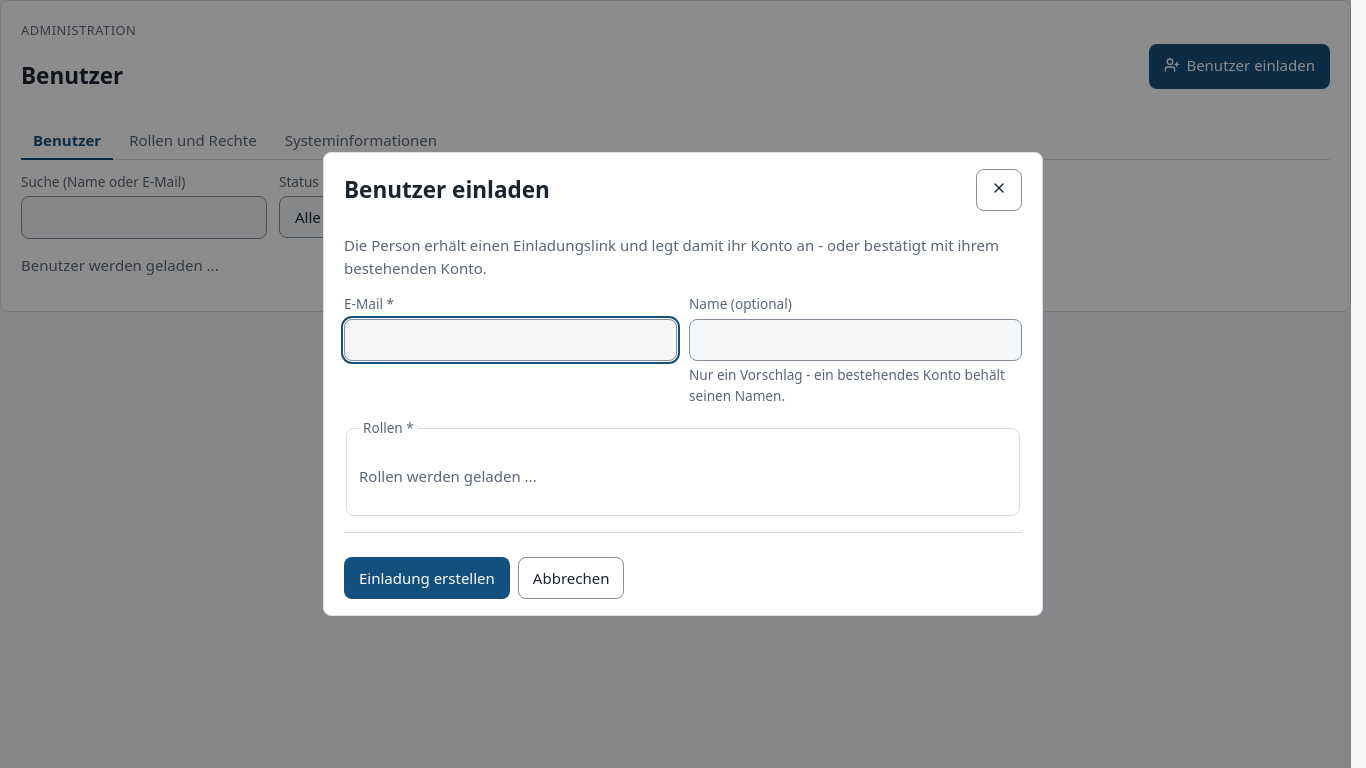
Test: Einladen und Einladungen verwalten › zeigt ohne Entwicklungsmodus keinen Link - auch wenn der Server einen schickte
Type "neu@test.example" into the field labelled "E-Mail *".
click(510, 340); type("neu@test.example")  # box [344,319,677,361]
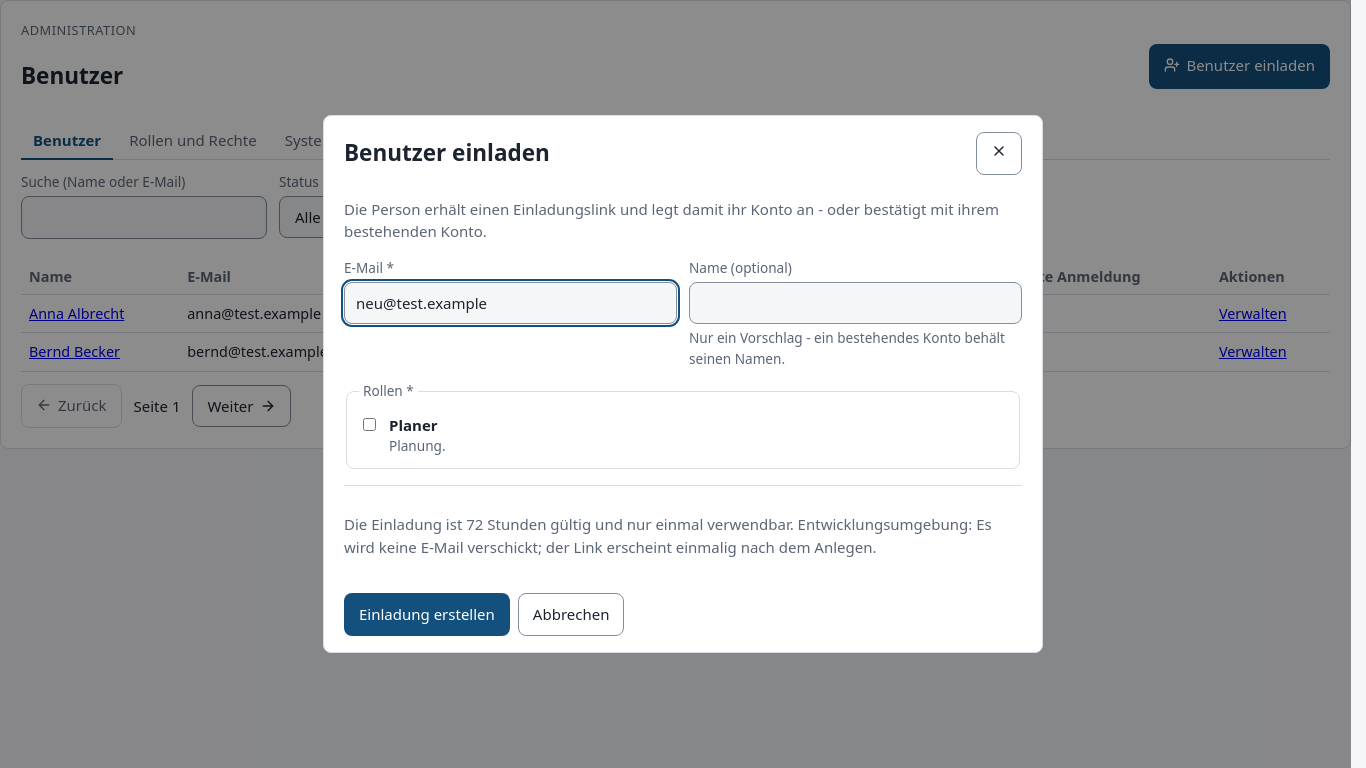
Click the checkbox labelled "Planer Planung.".
click(370, 424)  # box [363,418,376,431]
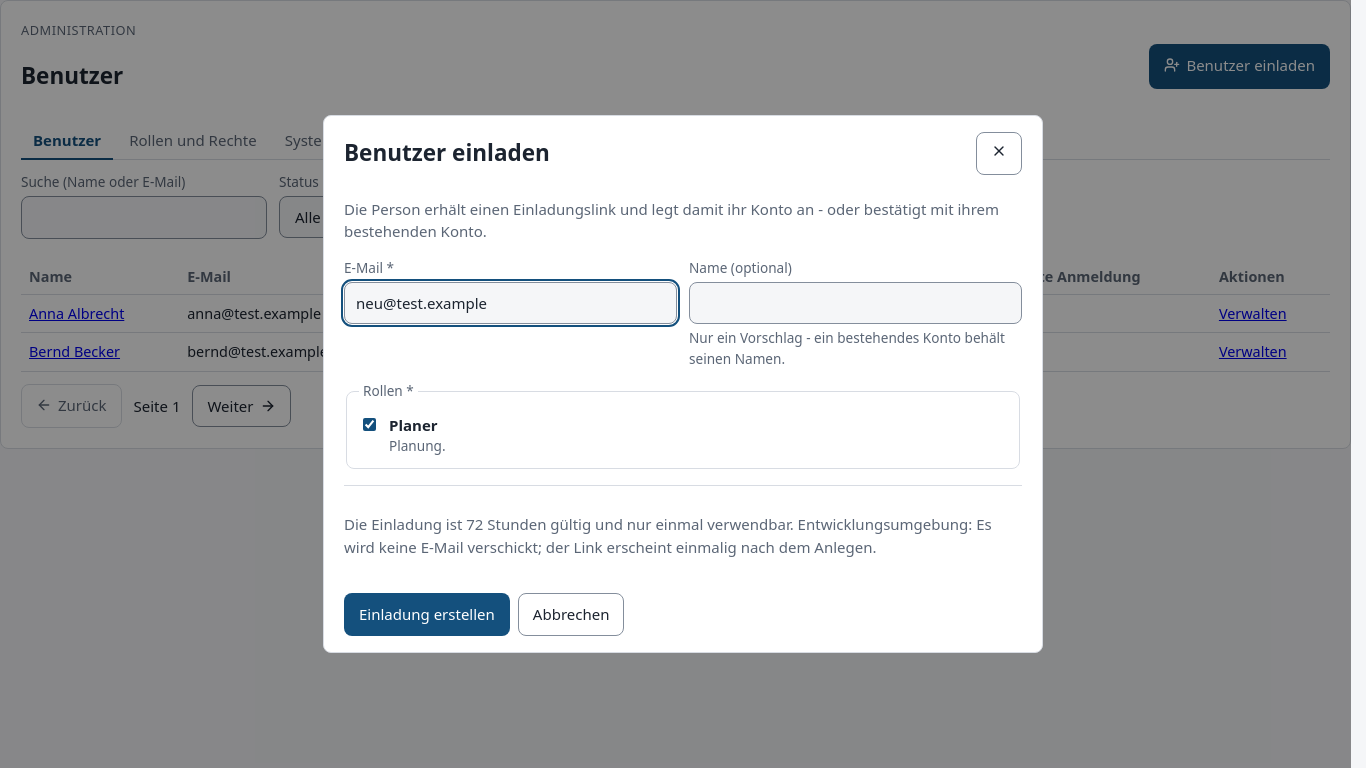
Click the button "Einladung erstellen".
click(427, 615)  # box [344,594,510,636]
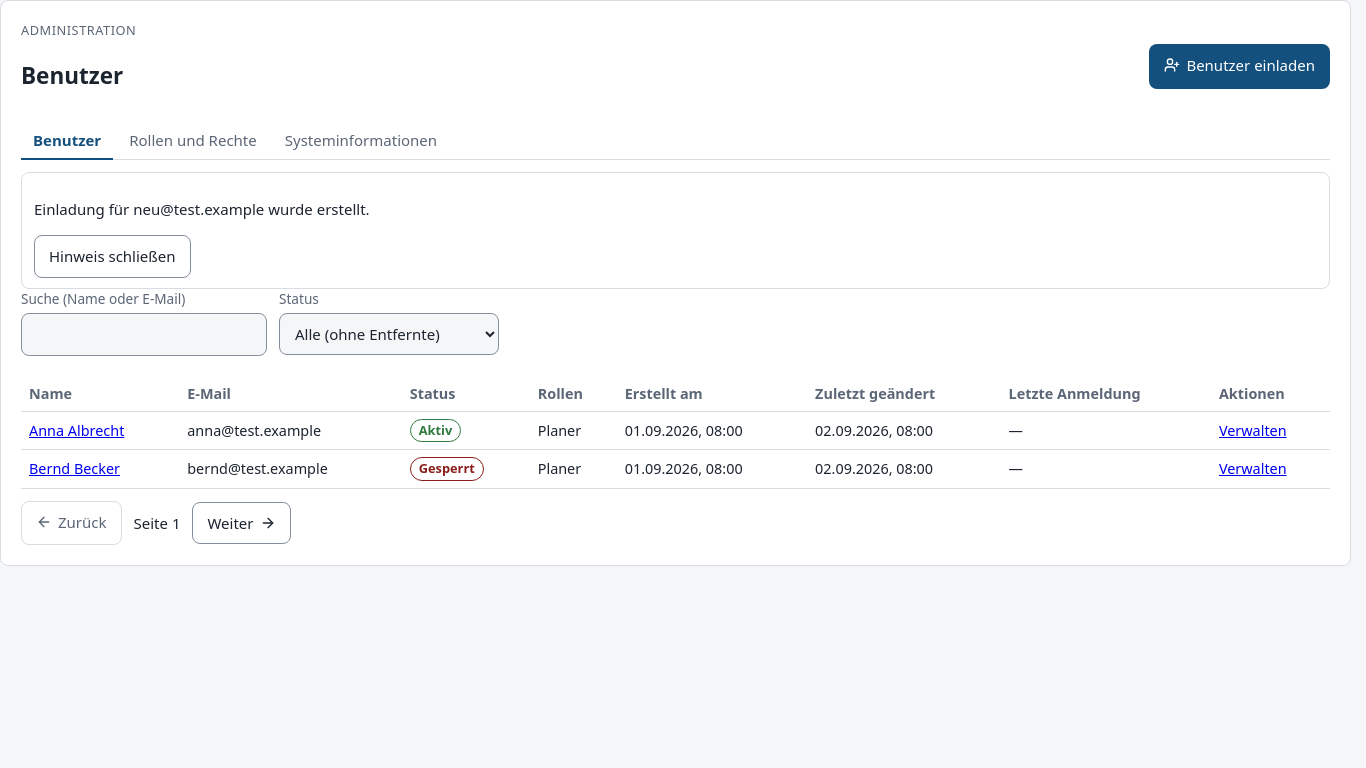
Expected: the text "Einladung für neu@test.example wurde erstellt." is shown, [34,199,370,219]
